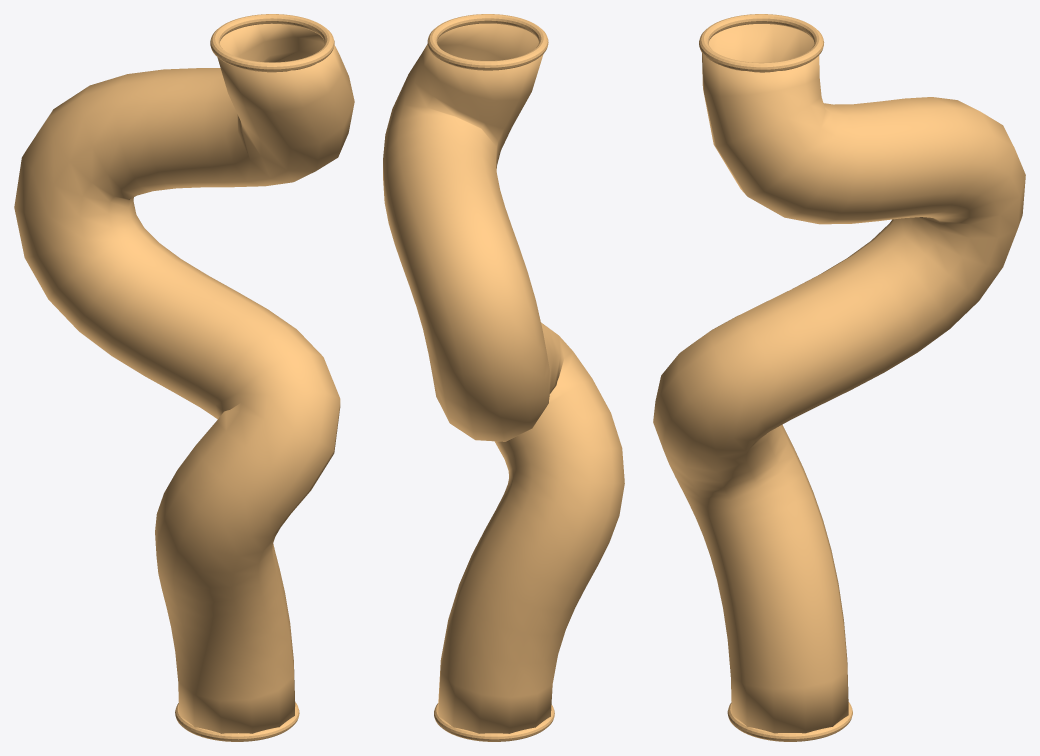
Rendered from pipe2 (1).fbx.
The picture shows the model from 3 angles, left to right: view 1: azimuth 30°, elevation 25°; view 2: azimuth 150°, elevation 25°; view 3: azimuth 270°, elevation 25°; orthographic projection. The views are drawn at different scales.
Parts seen in each view (by area): view 1: BezierCurve.001; view 2: BezierCurve.001; view 3: BezierCurve.001.
Part boxes in pixels (bbox=[...]): BezierCurve.001: bbox=[14, 14, 354, 741]; BezierCurve.001: bbox=[383, 14, 624, 741]; BezierCurve.001: bbox=[653, 14, 1025, 741].
Bounding box in the file's own units: 625 × 1752 × 859.
